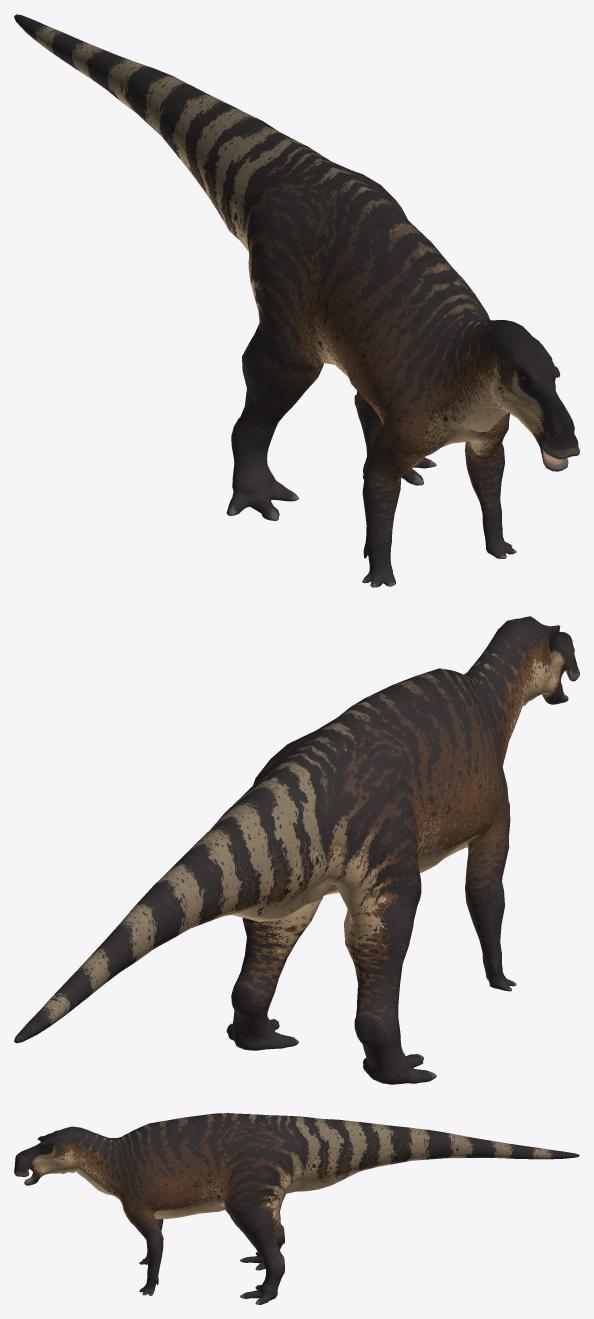
Rendered from Maiasaura.glb.
3 renders of one model, top to bottom at view 1: azimuth 30°, elevation 25°; view 2: azimuth 150°, elevation 25°; view 3: azimuth 270°, elevation 25°, orthographic. The views are drawn at different scales.
Visible parts, largest first — view 1: DW_Maiasaura_Adulto_Mayor_mesh; view 2: DW_Maiasaura_Adulto_Mayor_mesh; view 3: DW_Maiasaura_Adulto_Mayor_mesh.
Boxes of the visible parts, x1,y1,x2,y2 form: DW_Maiasaura_Adulto_Mayor_mesh: (14, 14, 579, 587); DW_Maiasaura_Adulto_Mayor_mesh: (14, 616, 579, 1084); DW_Maiasaura_Adulto_Mayor_mesh: (14, 1113, 579, 1304).
Size of the model in its own units: 0.2149 by 0.3259 by 1.
2 materials, 2 textured.
